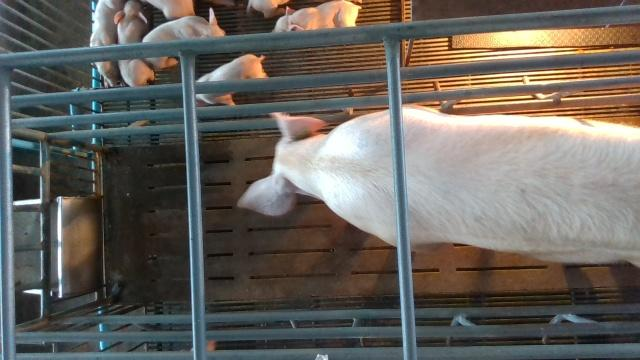piglet: (142, 7, 225, 68), (114, 0, 157, 87), (195, 55, 268, 105), (89, 0, 128, 88), (270, 0, 361, 33)
sow-stand: (236, 107, 640, 270)
